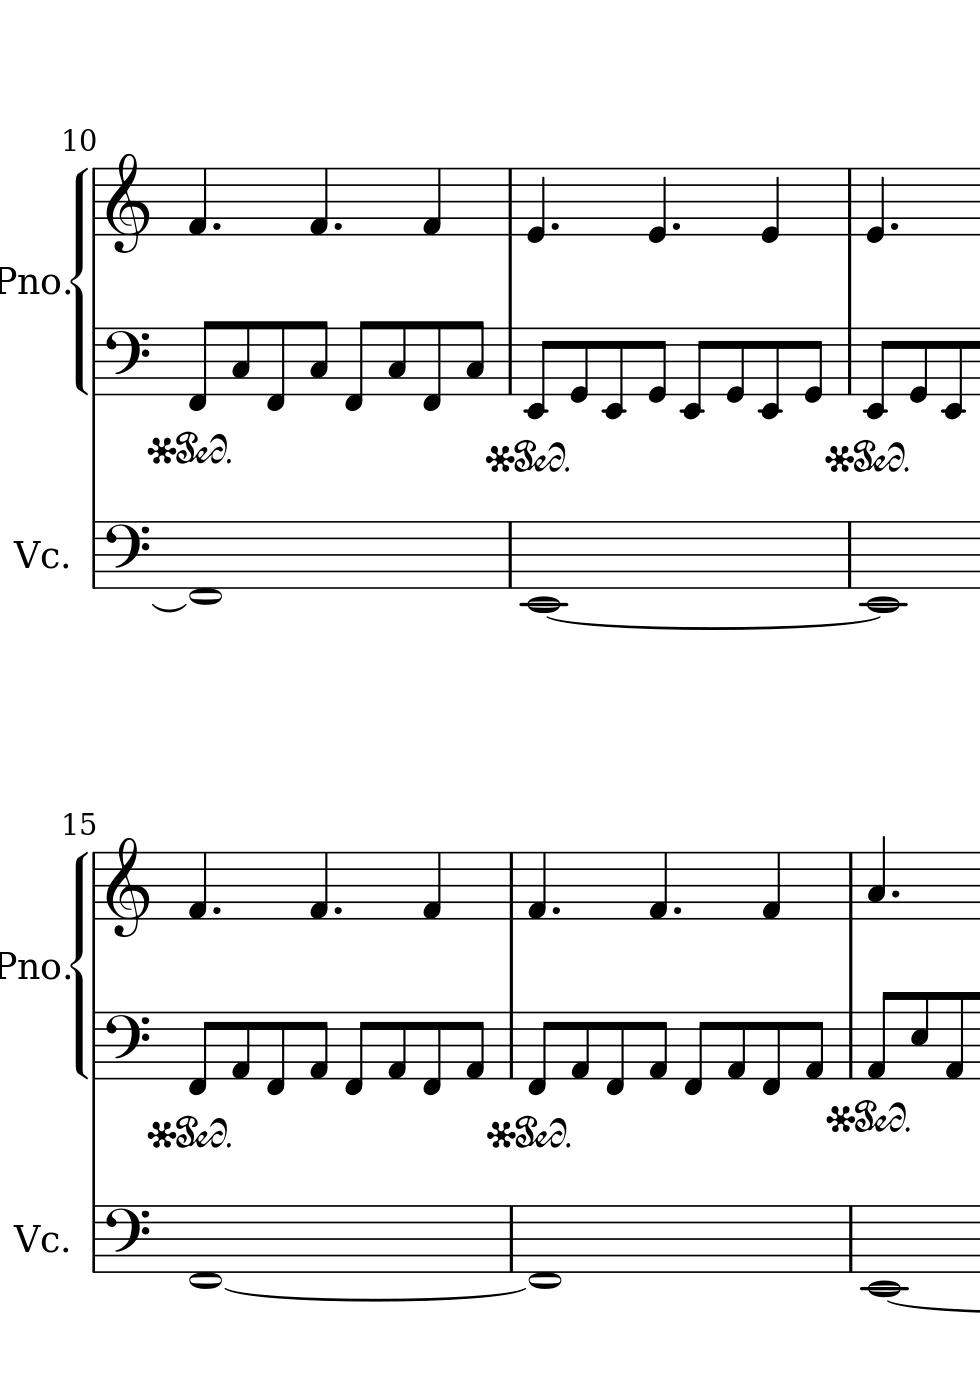0: (78, 126, 95, 154)
1: (62, 125, 76, 155), (62, 811, 76, 838)
1_-1: (188, 520, 222, 609), (188, 1204, 222, 1293), (528, 1204, 561, 1294)
1_-2: (525, 520, 561, 617), (867, 1204, 902, 1301), (867, 520, 899, 620)
4_0: (646, 165, 668, 245), (525, 165, 547, 244), (759, 165, 782, 244), (864, 165, 887, 244)
4_1: (183, 166, 208, 236), (185, 850, 208, 922), (307, 850, 330, 922), (420, 850, 443, 922), (646, 850, 669, 922), (307, 166, 330, 236), (421, 166, 444, 236), (526, 850, 548, 922), (759, 850, 782, 922)
4_3: (865, 835, 887, 922)
5: (78, 809, 97, 838)
8_-1: (185, 319, 217, 414), (342, 319, 372, 413), (185, 1010, 215, 1098), (342, 1008, 371, 1096), (681, 1008, 710, 1096), (526, 1010, 554, 1096), (420, 319, 443, 413), (263, 320, 286, 413), (264, 1008, 287, 1096), (420, 1008, 443, 1096), (603, 1008, 626, 1096), (759, 1008, 782, 1096)
8_-2: (522, 326, 555, 421), (861, 326, 894, 420), (678, 326, 711, 419), (940, 324, 966, 420), (600, 326, 626, 420), (756, 326, 782, 420)
8_0: (802, 326, 825, 405), (907, 324, 930, 403), (646, 324, 668, 404), (568, 324, 590, 403), (724, 326, 746, 404)
8_1: (863, 989, 894, 1081), (942, 989, 966, 1082), (802, 1010, 825, 1083), (229, 1008, 252, 1081), (385, 1008, 408, 1081), (646, 1010, 669, 1082), (307, 1010, 329, 1082), (568, 1008, 591, 1081), (724, 1008, 747, 1081), (463, 1010, 485, 1082)
8_3: (229, 319, 252, 397), (385, 319, 408, 397), (463, 319, 486, 398), (307, 319, 329, 397)
8_5: (908, 989, 930, 1081)
Brace: (69, 163, 90, 394)
Fclef: (102, 1010, 151, 1080), (103, 324, 151, 396), (105, 1204, 152, 1276), (106, 520, 152, 592)
Gclef: (104, 151, 150, 255), (105, 835, 148, 938)
Pno: (1, 263, 62, 299), (1, 948, 63, 982)
Single_barline: (502, 853, 520, 920), (502, 169, 519, 235), (841, 169, 858, 235), (842, 854, 859, 920), (502, 1012, 519, 1078), (86, 1206, 103, 1273), (86, 521, 102, 589), (502, 328, 518, 394), (841, 328, 857, 394), (843, 1012, 859, 1078), (503, 1206, 519, 1271), (87, 853, 102, 920), (842, 521, 857, 587), (843, 1206, 858, 1273), (88, 169, 102, 236), (88, 328, 102, 394), (503, 522, 517, 587), (88, 1013, 102, 1078)
Slur: (546, 614, 880, 631), (221, 1288, 525, 1305), (148, 600, 188, 613)
Vc: (11, 536, 62, 571), (11, 1220, 62, 1255)
dot: (887, 220, 902, 234), (889, 887, 902, 901), (548, 220, 561, 233), (669, 220, 681, 233), (210, 220, 222, 233), (332, 220, 344, 233), (210, 903, 222, 917), (550, 903, 562, 917), (332, 903, 343, 917), (671, 903, 682, 917)
